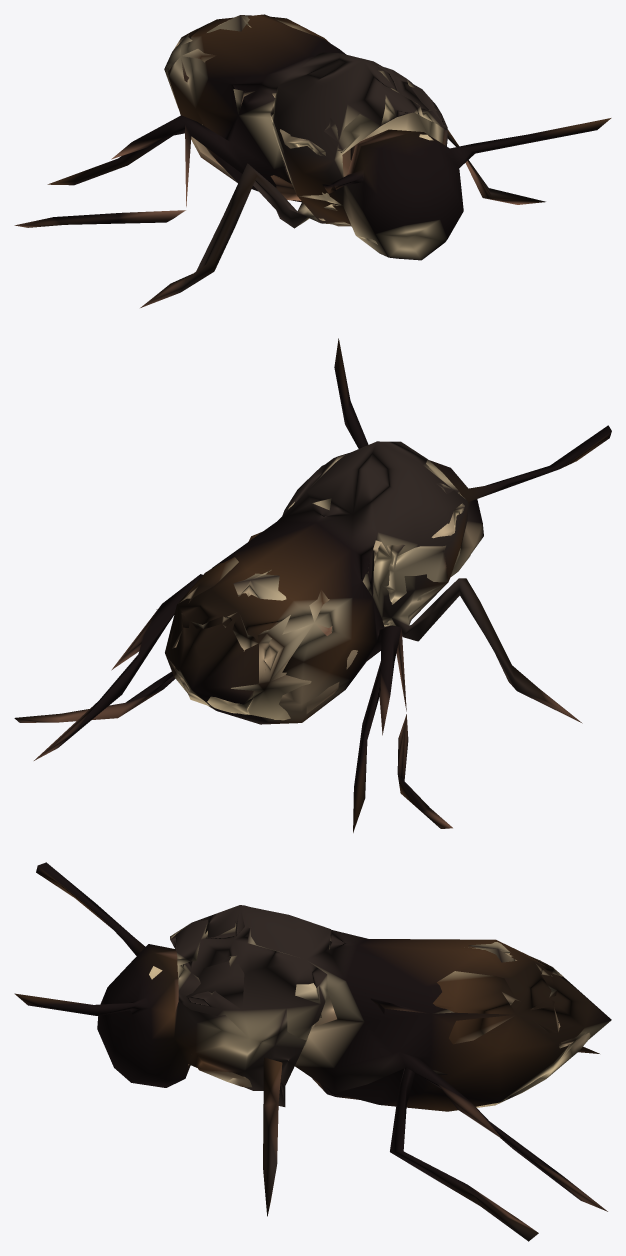
File: gen3d-mosquito-lod1.glb
3 renders of one model, top to bottom at view 1: azimuth 30°, elevation 25°; view 2: azimuth 150°, elevation 25°; view 3: azimuth 270°, elevation 25°, orthographic. The views are drawn at different scales.
Visible parts, largest first — view 1: part_0; view 2: part_0; view 3: part_0.
Boxes of the visible parts, x1,y1,x2,y2 form: part_0: (14,14,611,307); part_0: (14,338,611,832); part_0: (14,862,611,1241).
Bounding box in the file's own units: 1.98 × 1 × 2.33.
